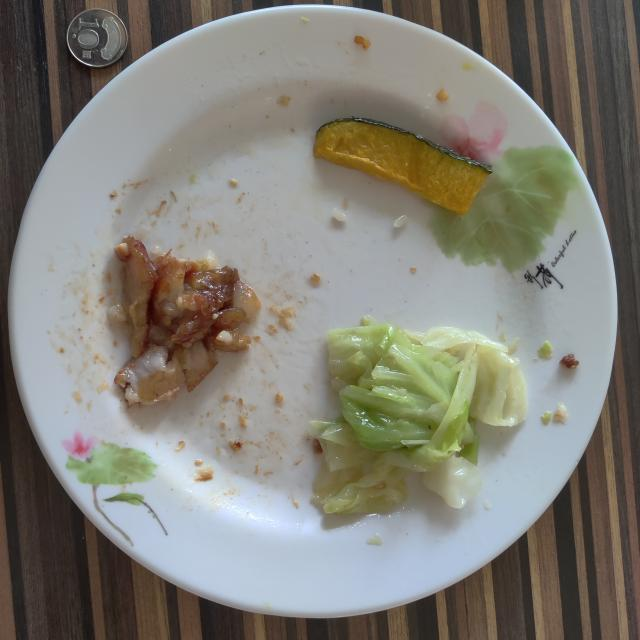Kabayaki sea bream fillet: (115, 235, 261, 405)
cabbage: (308, 324, 528, 515)
coin: (66, 9, 128, 68)
pumpkin: (314, 118, 491, 215)
